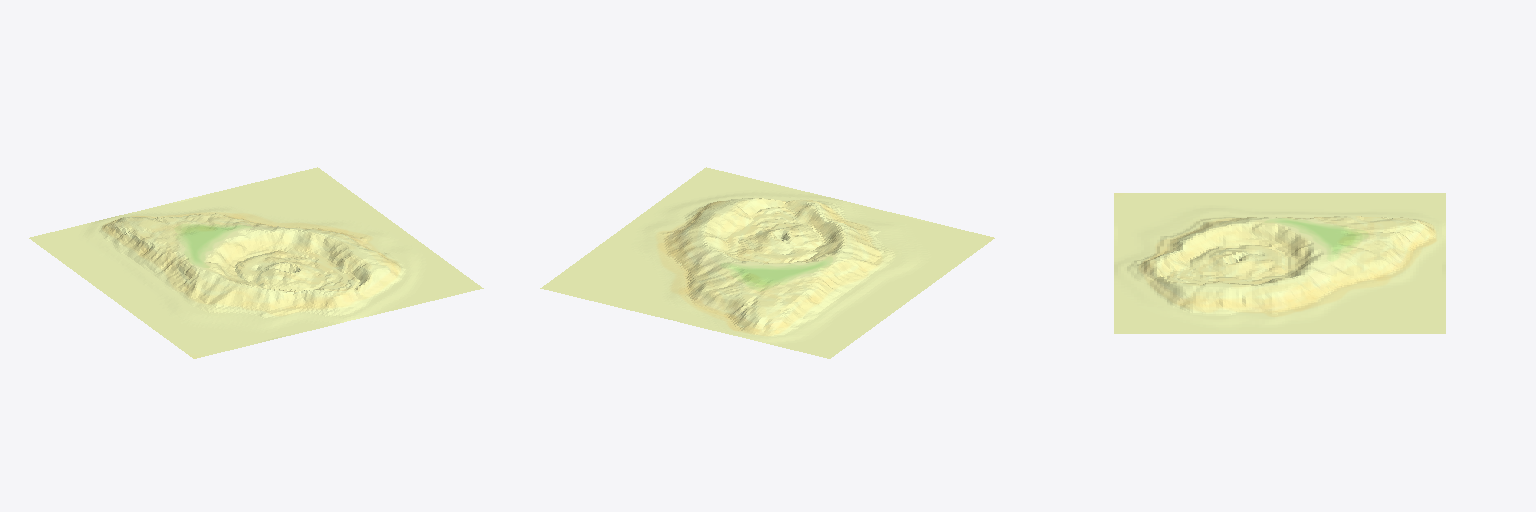
3 views of the same model, side by side, from view 1: azimuth 30°, elevation 25°; view 2: azimuth 150°, elevation 25°; view 3: azimuth 270°, elevation 25° (orthographic).
Visible parts, largest first — view 1: Plane_Plane.001; view 2: Plane_Plane.001; view 3: Plane_Plane.001.
Part boxes in pixels (bbox=[...]): Plane_Plane.001: bbox=[29, 167, 483, 358]; Plane_Plane.001: bbox=[540, 167, 994, 358]; Plane_Plane.001: bbox=[1114, 193, 1445, 333].
Size of the model in its own units: 80.4 by 3.82 by 79.67.
1 materials, 1 textured.